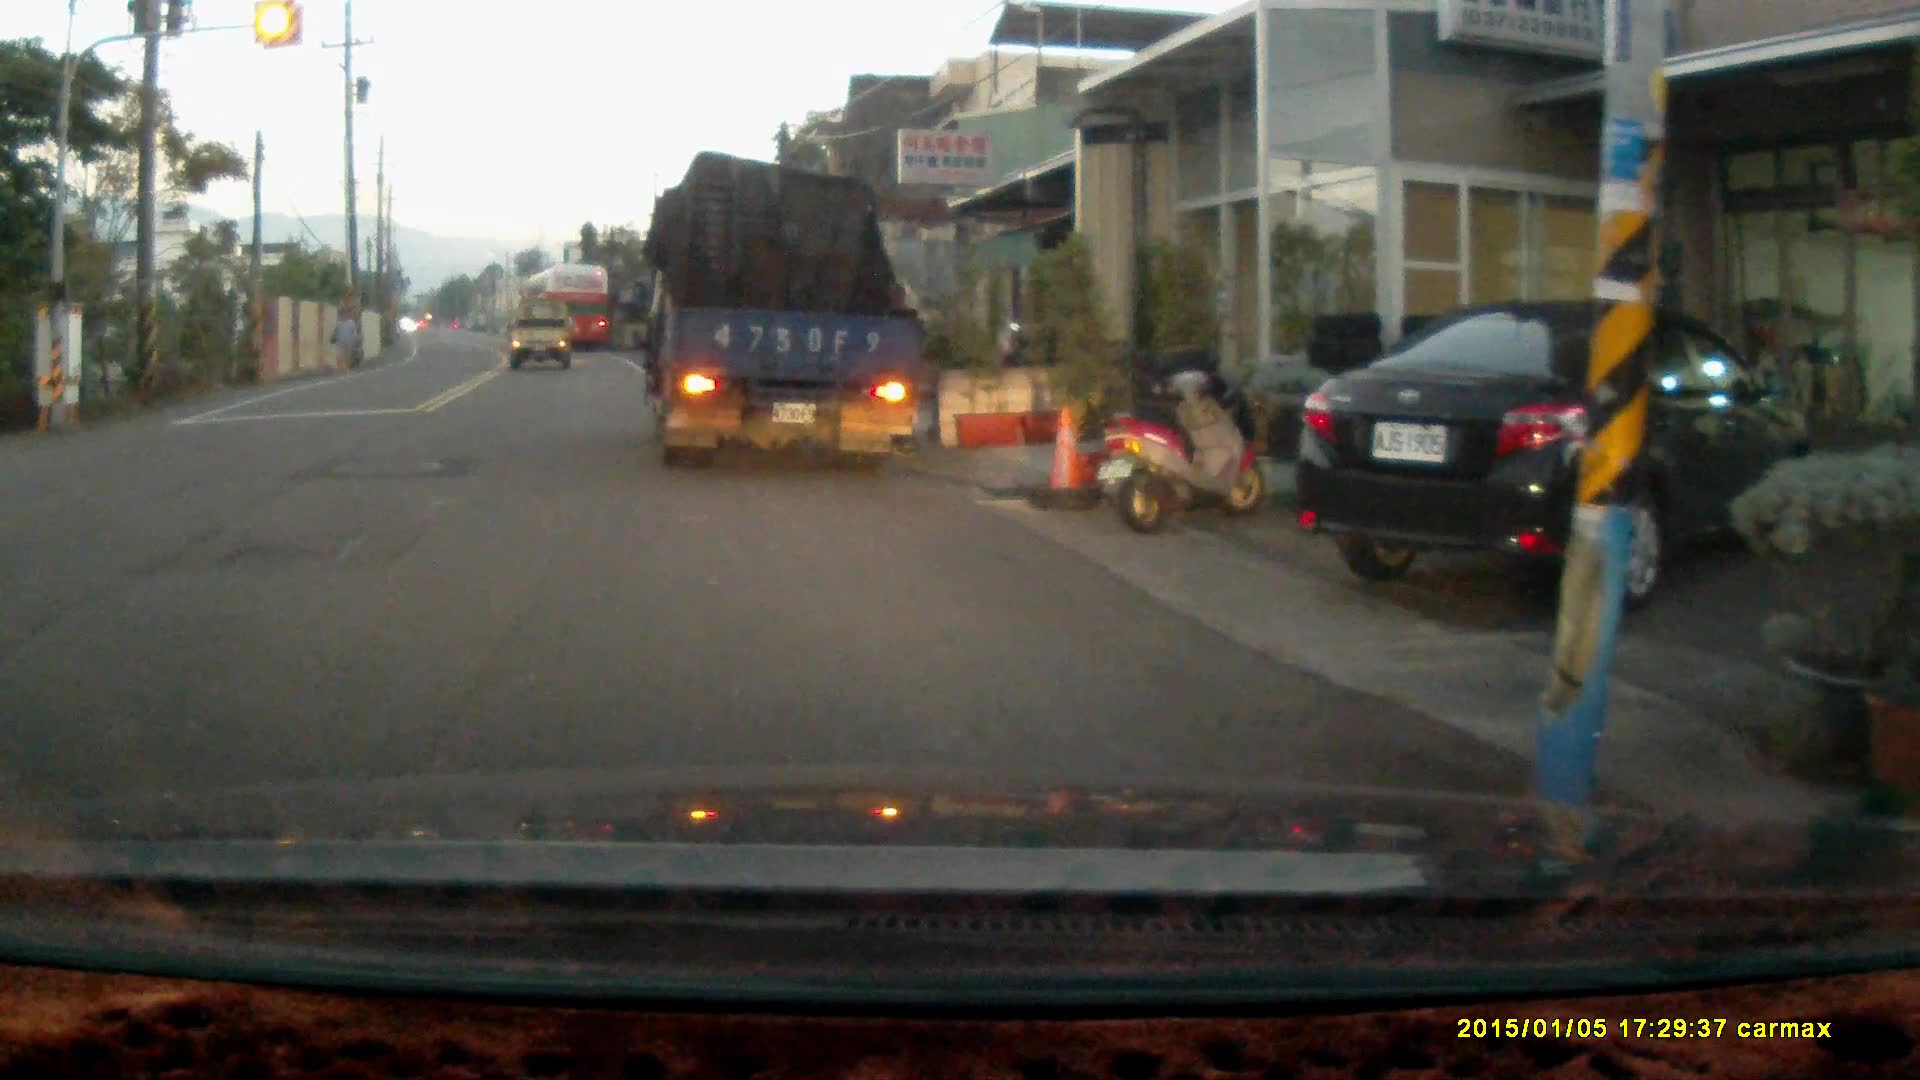pedestrian: (329, 301, 360, 369)
vehicle: (1290, 296, 1824, 620), (639, 158, 927, 469), (524, 265, 618, 359), (511, 293, 577, 372)
